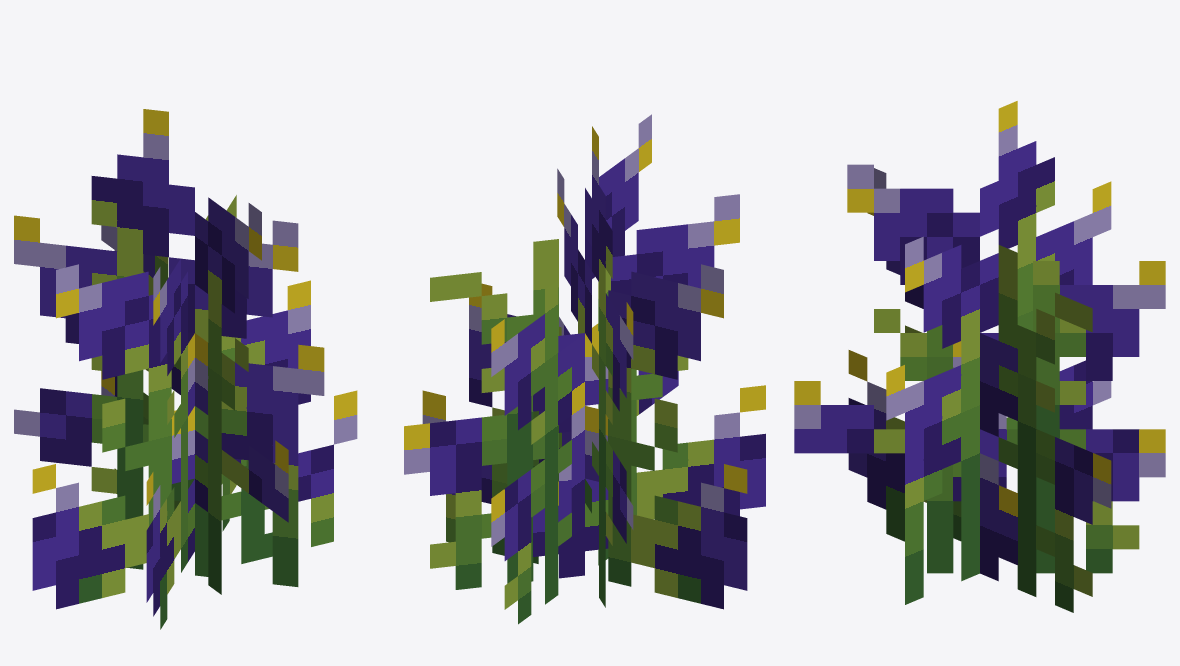
The model's file is IrisSeedling.fbx.
The picture shows the model from 3 angles, left to right: view 1: azimuth 30°, elevation 25°; view 2: azimuth 150°, elevation 25°; view 3: azimuth 270°, elevation 25°; orthographic projection.
Visible parts, largest first — view 1: plane; view 2: plane; view 3: plane.
Boxes of the visible parts, left/top/right/bottom form: plane: left=14, top=109, right=357, bottom=629; plane: left=404, top=114, right=765, bottom=624; plane: left=794, top=101, right=1165, bottom=612.
Size of the model in its own units: 87.5 by 125 by 87.5.
Materials: 1 (1 with a texture image).
